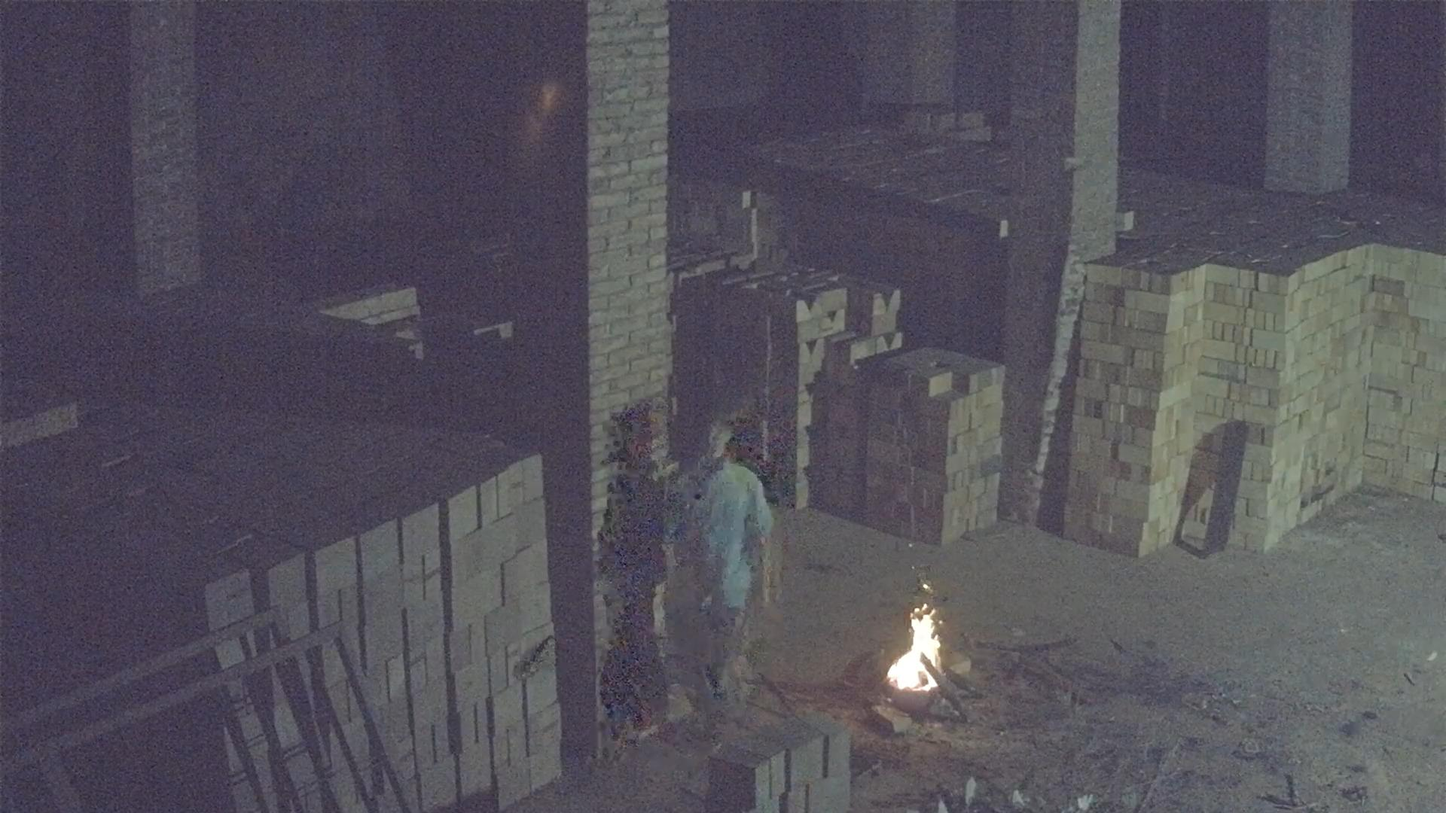fire: (887, 604, 942, 693)
